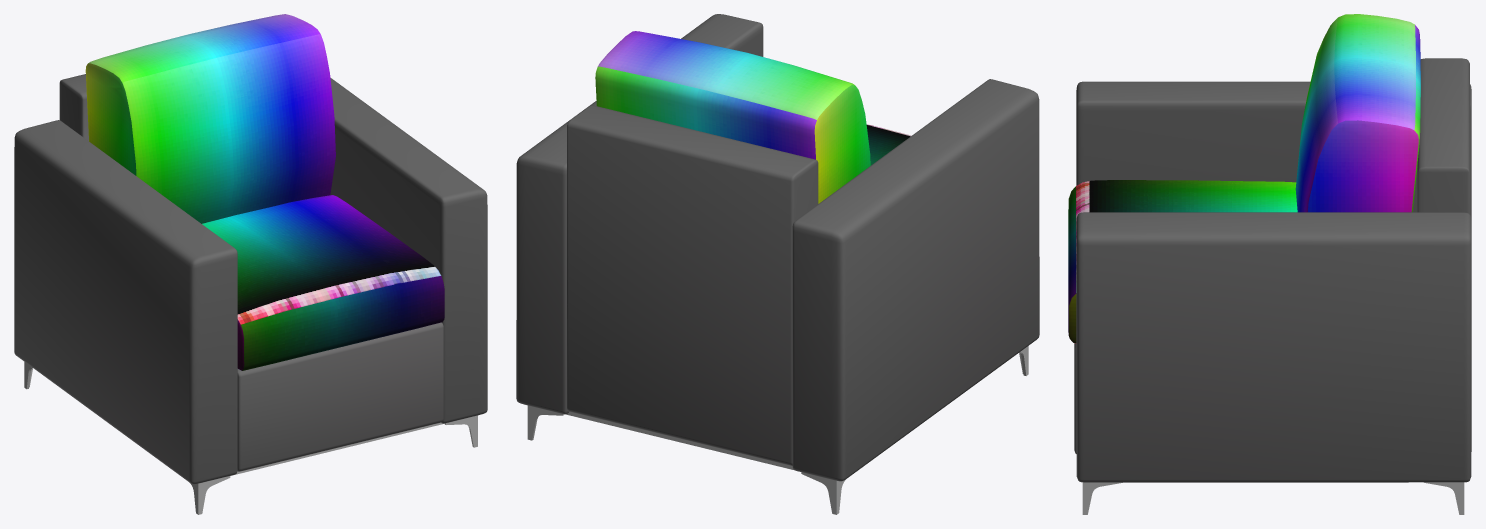
The model's file is MK_Stage_001_Chair.fbx.
3 views of the same model, side by side, from view 1: azimuth 30°, elevation 25°; view 2: azimuth 150°, elevation 25°; view 3: azimuth 270°, elevation 25° (orthographic). The views are drawn at different scales.
Parts seen in each view (by area): view 1: MK_Stage_001_Chair; view 2: MK_Stage_001_Chair; view 3: MK_Stage_001_Chair.
Boxes of the visible parts, bbox=[...] form: MK_Stage_001_Chair: bbox=[14, 14, 487, 514]; MK_Stage_001_Chair: bbox=[516, 14, 1039, 514]; MK_Stage_001_Chair: bbox=[1068, 14, 1471, 514].
Bounding box in the file's own units: 0.7019 × 0.7507 × 0.7773.
Materials: 2 (2 with a texture image).
